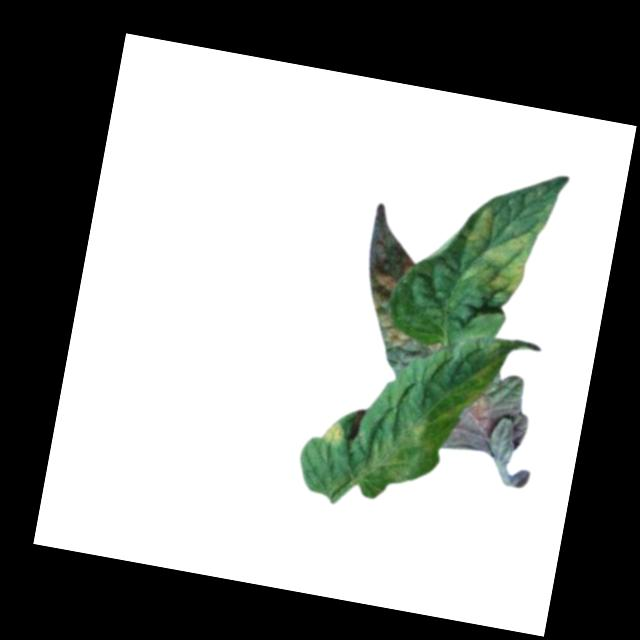Leaf_Mold: (454, 195, 549, 305), (440, 366, 535, 463), (356, 205, 423, 326), (364, 323, 442, 383), (321, 416, 346, 448)
